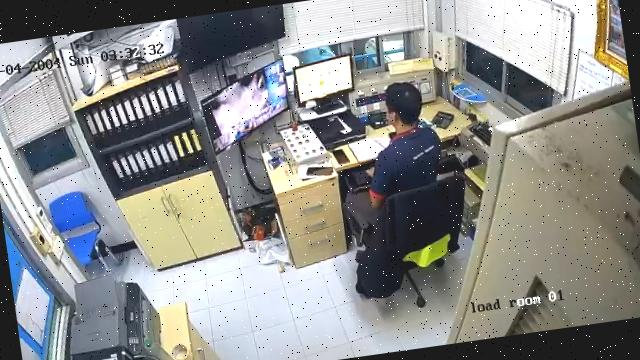Head: (386, 83, 422, 128)
People: (345, 83, 441, 230)
Phone: (333, 149, 349, 164), (306, 168, 332, 176)
